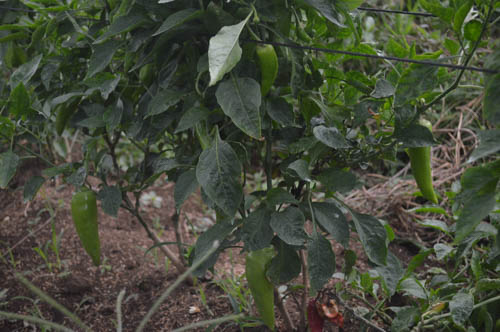ChiliPepper: (71, 187, 115, 271), (247, 246, 285, 328), (409, 119, 439, 209), (247, 42, 280, 98)
